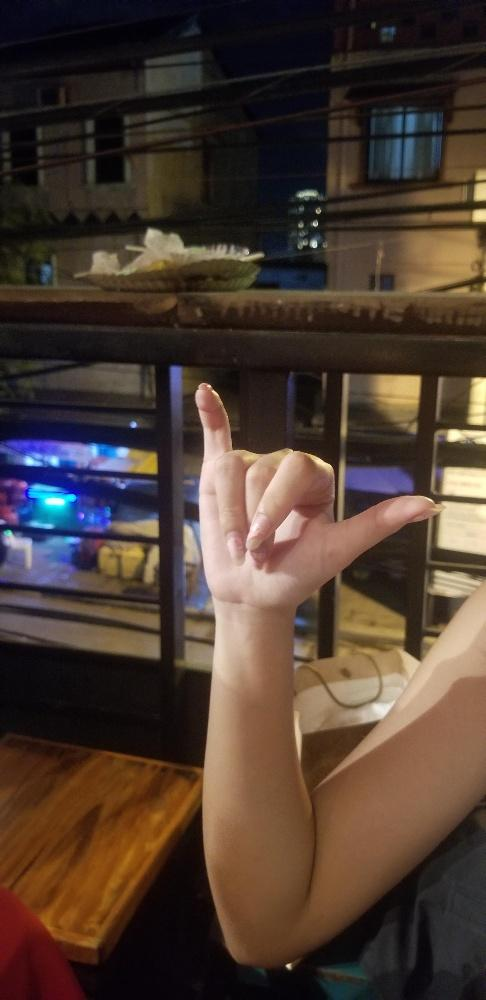y: (192, 376, 440, 616)
